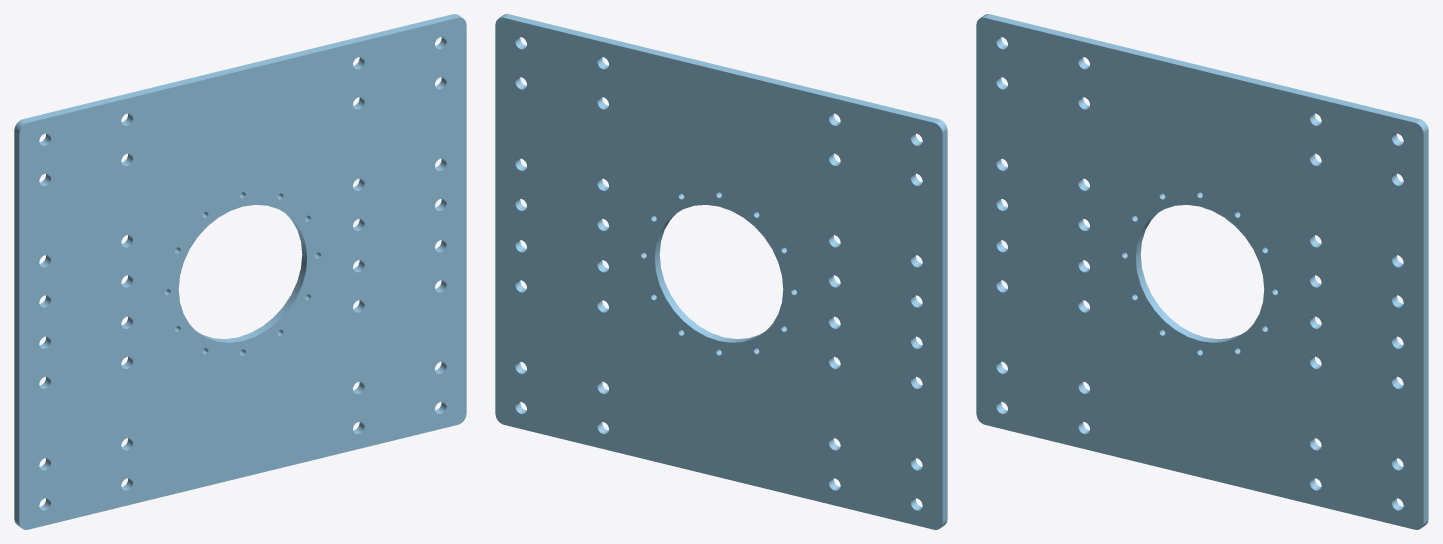
Rendered from plate.obj.
3 renders of one model, left to right at view 1: azimuth 30°, elevation 25°; view 2: azimuth 150°, elevation 25°; view 3: azimuth 330°, elevation 25°, orthographic.
Parts seen in each view (by area): view 1: mesh1, mesh5, mesh7, mesh0; view 2: mesh2, mesh5, mesh7, mesh0; view 3: mesh1, mesh5, mesh3, mesh0.
Part boxes in pixels (x1,y1,x2,y2): mesh1: (19, 17, 466, 529); mesh5: (23, 14, 457, 122); mesh7: (14, 130, 19, 522); mesh0: (197, 213, 307, 342); mesh2: (495, 17, 942, 529); mesh5: (504, 14, 938, 122); mesh7: (942, 130, 947, 522); mesh0: (654, 213, 764, 342); mesh1: (976, 17, 1423, 529); mesh5: (985, 14, 1419, 122); mesh3: (1423, 130, 1428, 522); mesh0: (1135, 213, 1245, 342).
Bounding box in the file's own units: 0.3271 × 0.2846 × 0.00635.
